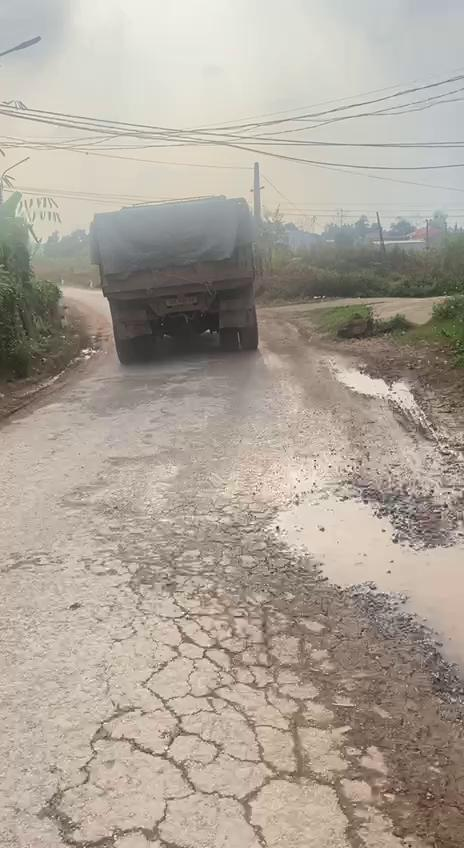pothole: (262, 480, 464, 677)
